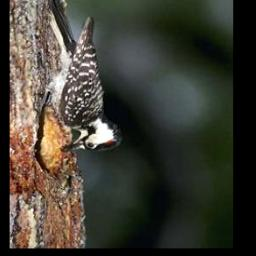Woodpecker: (33, 0, 128, 156)
